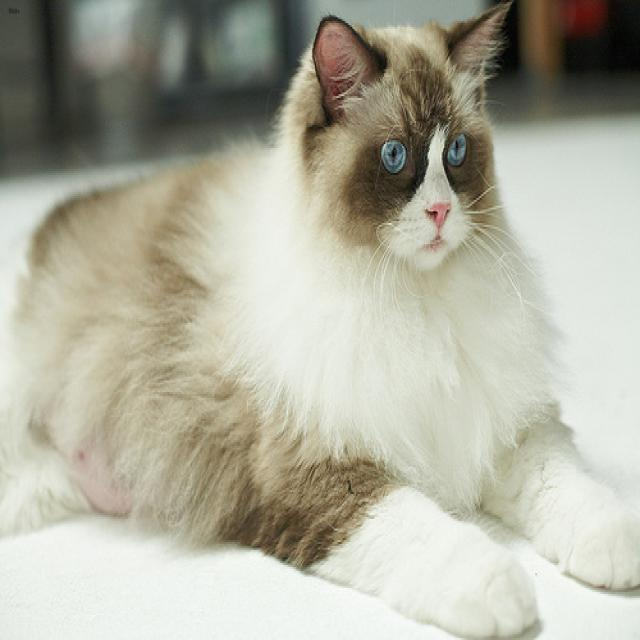Ragdoll: (278, 2, 522, 287)
